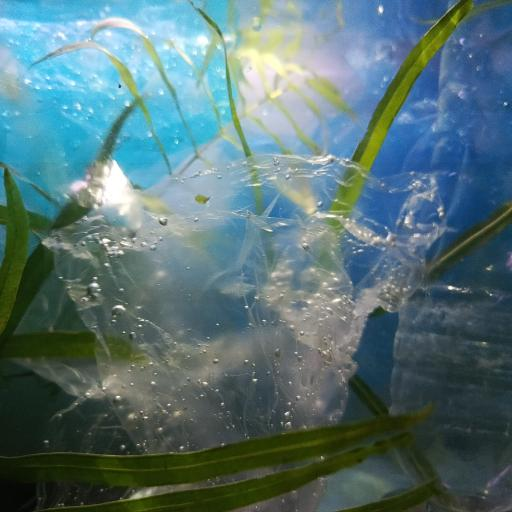plastic_bag: (44, 155, 443, 512), (233, 28, 512, 292), (2, 15, 266, 257)
plastic_bottle: (399, 12, 512, 512)
